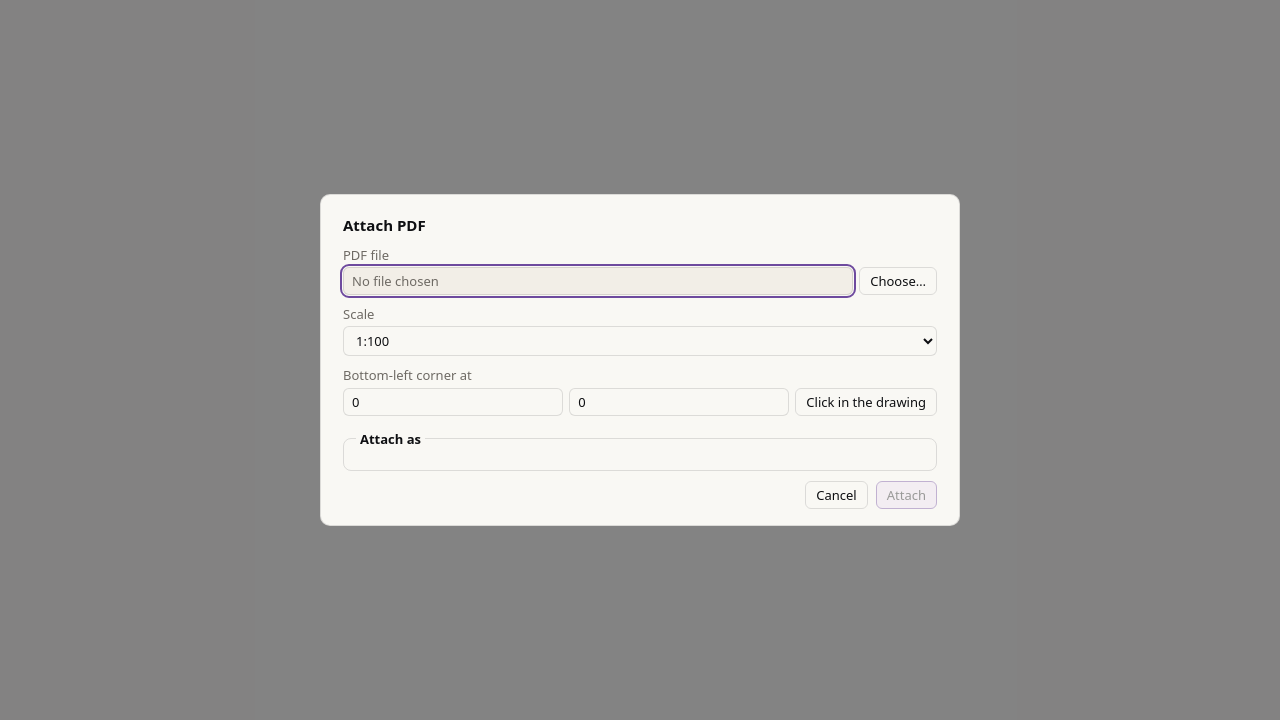
Test: a PDF that can't be read says why
This screenshot has width=1280, height=720.
Click the button "Choose…" at (898, 281), box [859,267,937,295]
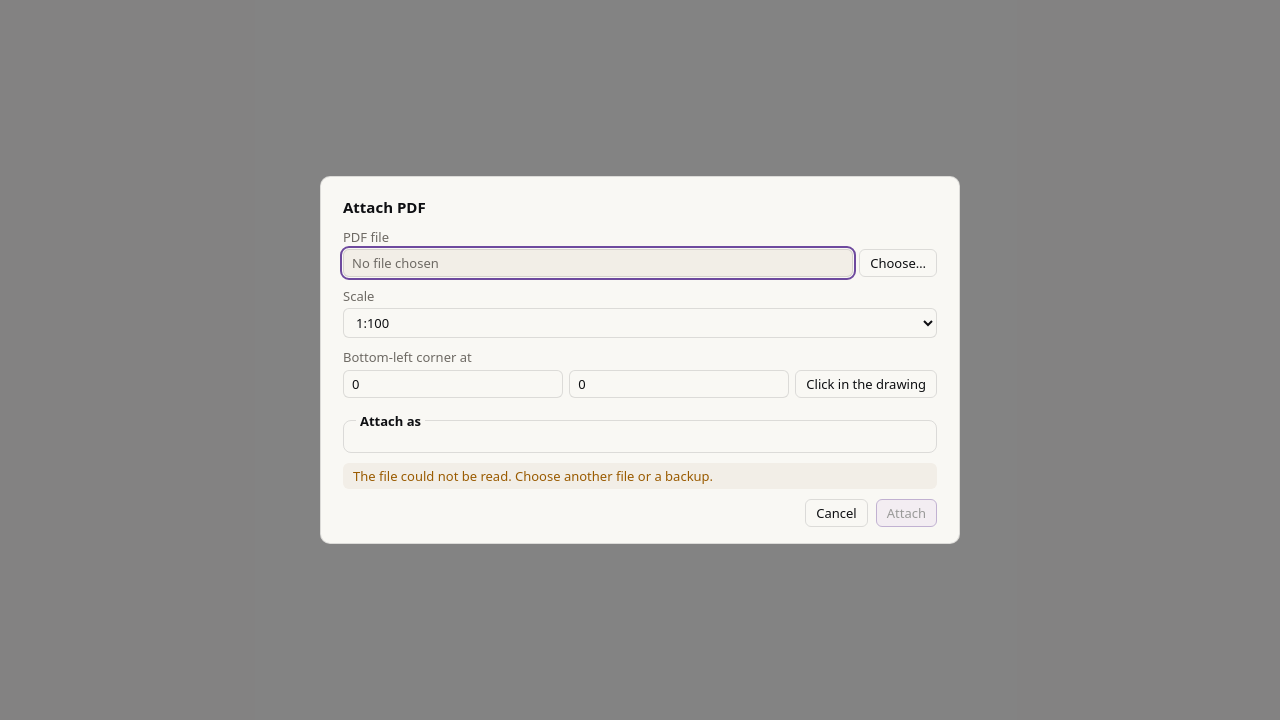
Expected: the message reads "The file could not be read. Choose another file or a backup.", [353,467,713,485]
